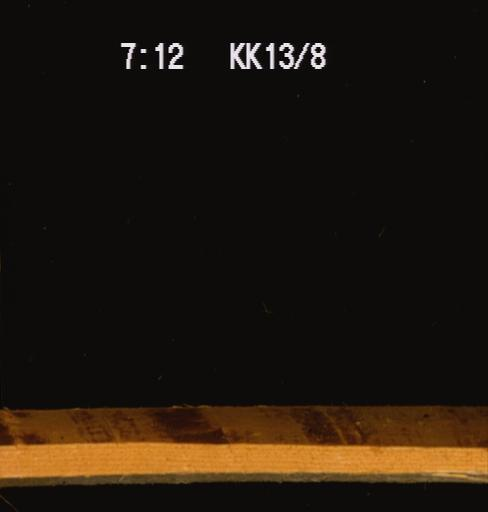wave: (0, 407, 487, 448)
